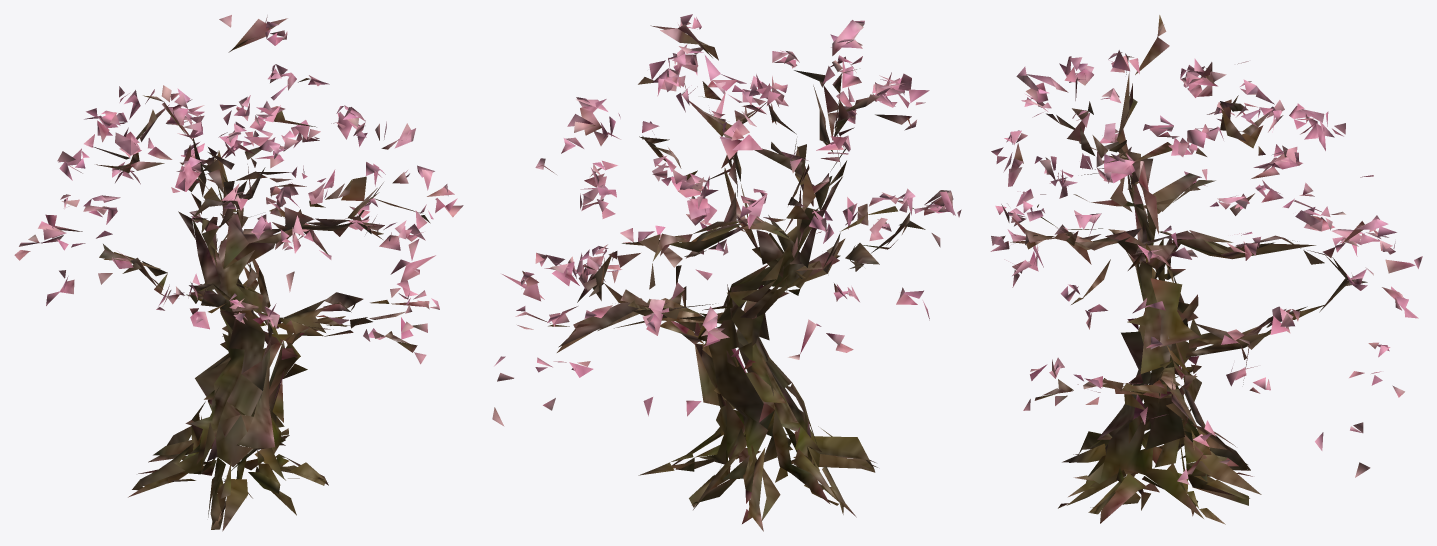
Rendered from cerejeira_lod2.glb.
3 renders of one model, left to right at view 1: azimuth 30°, elevation 25°; view 2: azimuth 150°, elevation 25°; view 3: azimuth 270°, elevation 25°, orthographic. The views are drawn at different scales.
Visible parts, largest first — view 1: cerejeira; view 2: cerejeira; view 3: cerejeira.
Boxes of the visible parts, x1=… form: cerejeira: x1=14, y1=15, x2=463, y2=531; cerejeira: x1=492, y1=14, x2=961, y2=531; cerejeira: x1=990, y1=15, x2=1422, y2=524.
Size of the model in its own units: 6.47 by 6.91 by 5.85.
Materials: 1 (1 with a texture image).
